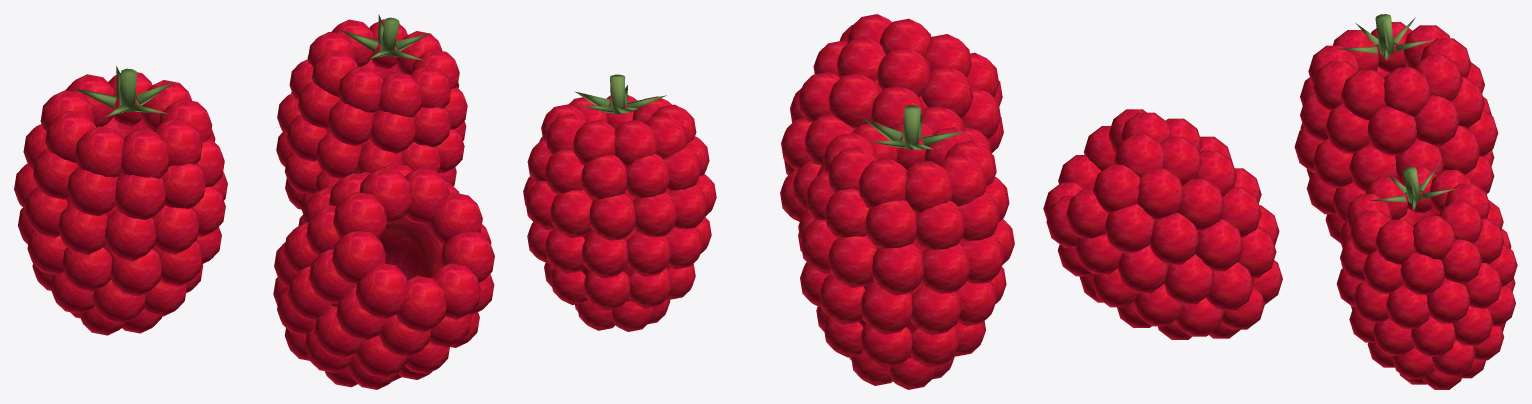
Rendered from NP_Raspberry_Harvest.fbx.
The picture shows the model from 3 angles, left to right: view 1: azimuth 30°, elevation 25°; view 2: azimuth 150°, elevation 25°; view 3: azimuth 270°, elevation 25°; orthographic projection. The views are drawn at different scales.
Visible parts, largest first — view 1: NP_Raspberry_Harvest; view 2: NP_Raspberry_Harvest; view 3: NP_Raspberry_Harvest.
Part boxes in pixels (box(x1,y1,x2,y2)): NP_Raspberry_Harvest: box(14, 14, 494, 389); NP_Raspberry_Harvest: box(523, 14, 1014, 389); NP_Raspberry_Harvest: box(1043, 14, 1517, 389).
Bounding box in the file's own units: 46.44 × 27.01 × 45.76.
